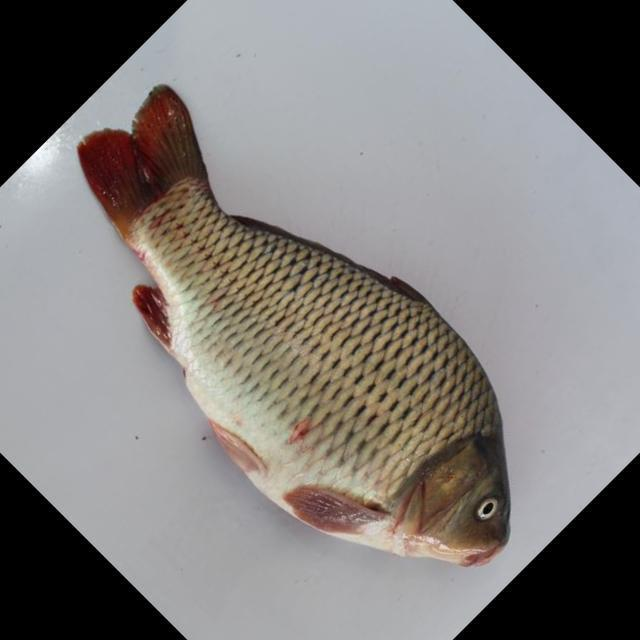CommonCarp: (71, 71, 554, 566)
